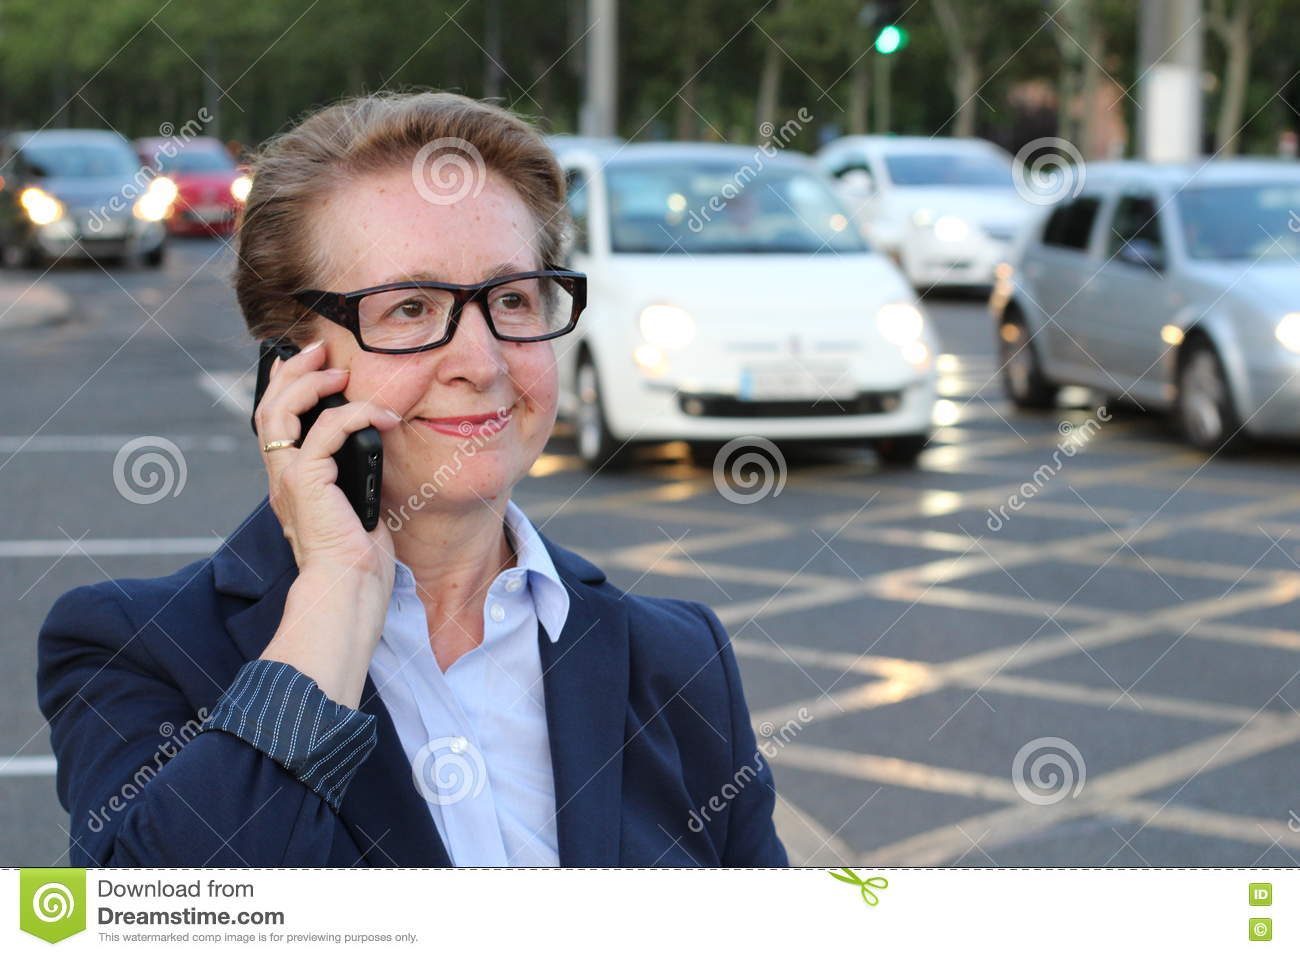phone: (253, 325, 382, 533)
talk: (245, 260, 564, 618)
